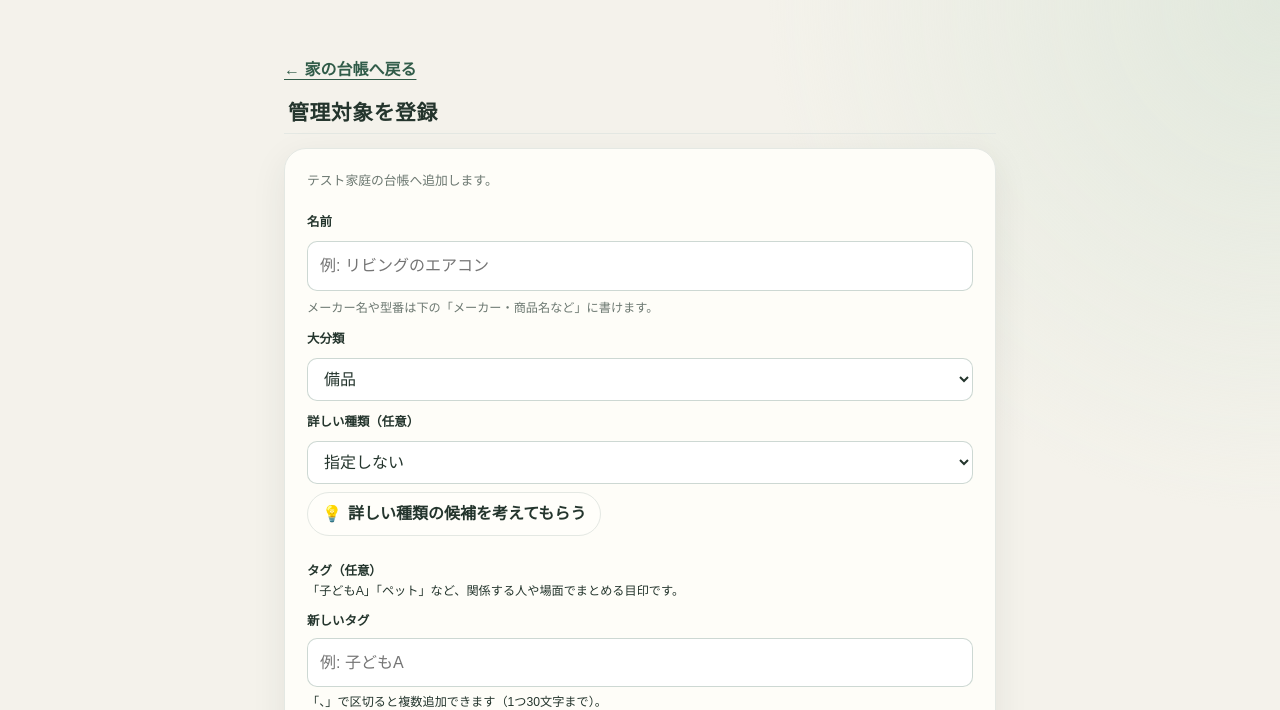
Test: 登録・編集の自由入力(詳しい種類)候補(Issue #288) › 入力した文字で候補を絞り込み、前後の空白と大文字小文字の違いは無視する
Step 1. Select "サービス" in the dropdown labelled "大分類" → {"x": 640, "y": 380}, box [307,358,973,401]
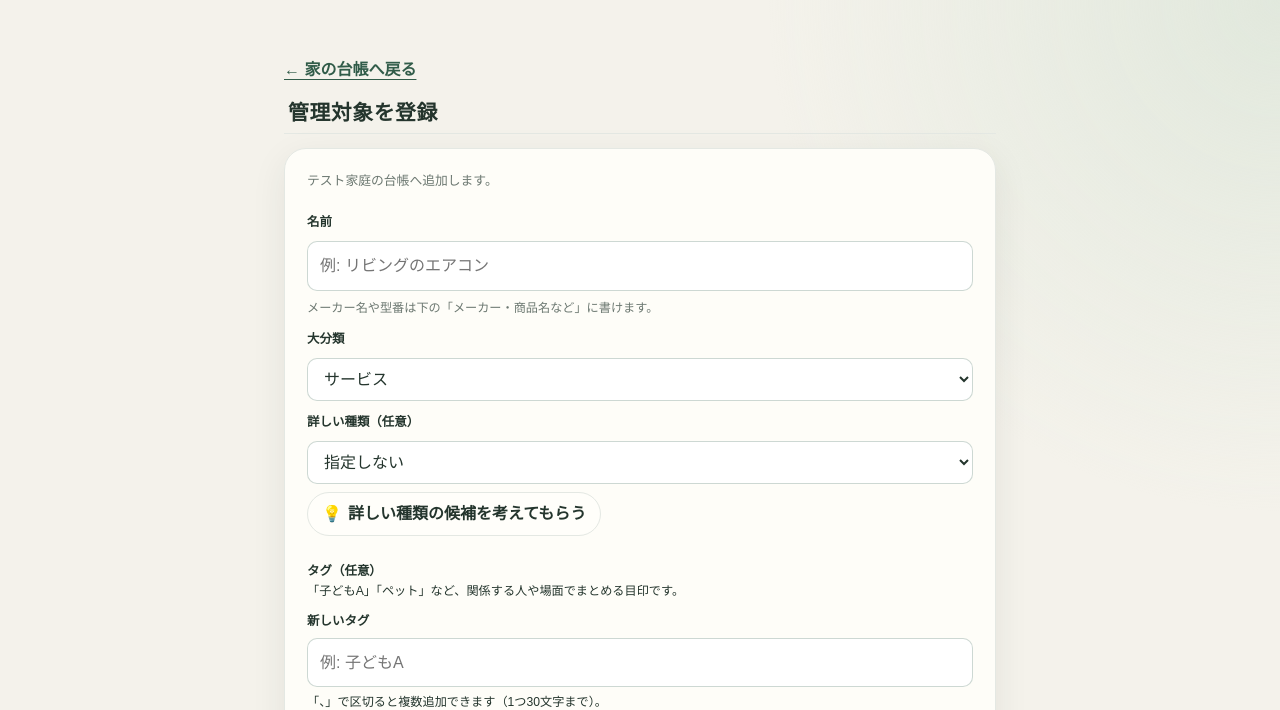
Step 2. Select "その他（自由入力）" in the dropdown labelled "詳しい種類（任意）" → {"x": 640, "y": 463}, box [307,441,973,484]
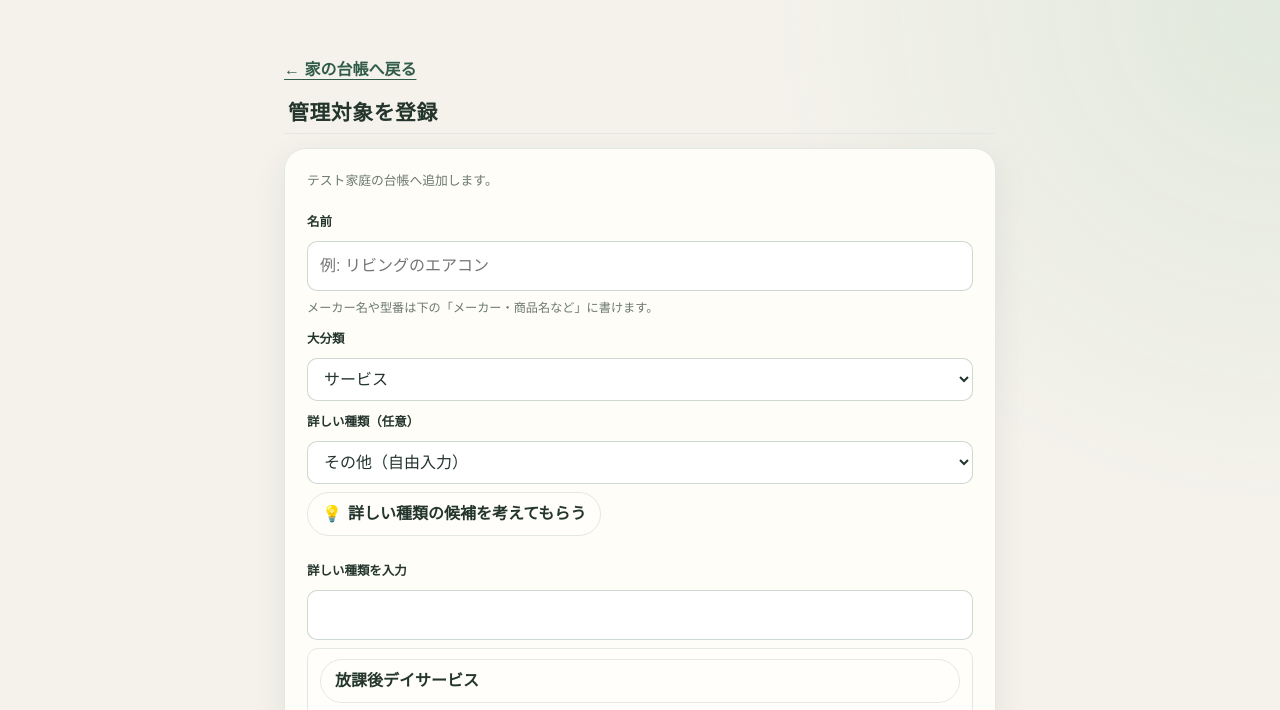
Step 3. Type "放課後" into the field labelled "詳しい種類を入力" → {"x": 640, "y": 615}, box [307,590,973,640]
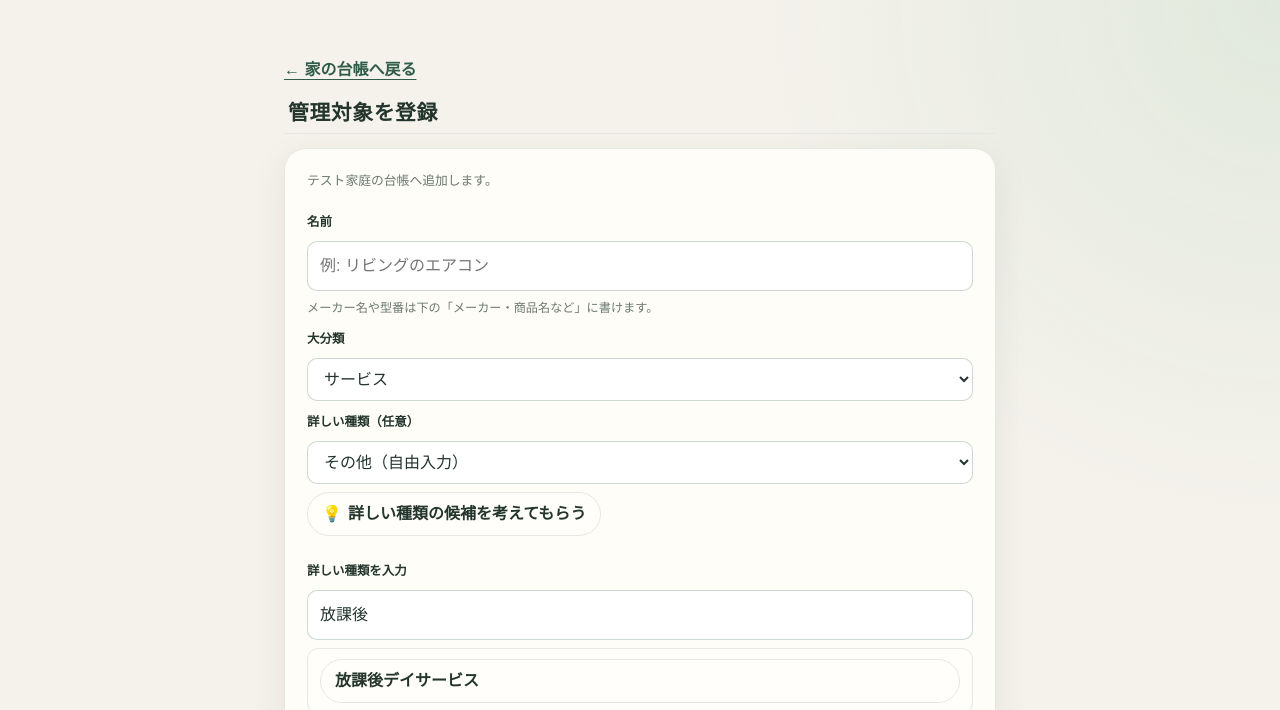
Expected: the button "放課後デイサービス" is shown, [320,659,960,703]
Step 4. Replace the text in the field labelled "詳しい種類を入力" with "  IOT  " → {"x": 640, "y": 615}, box [307,590,973,640]
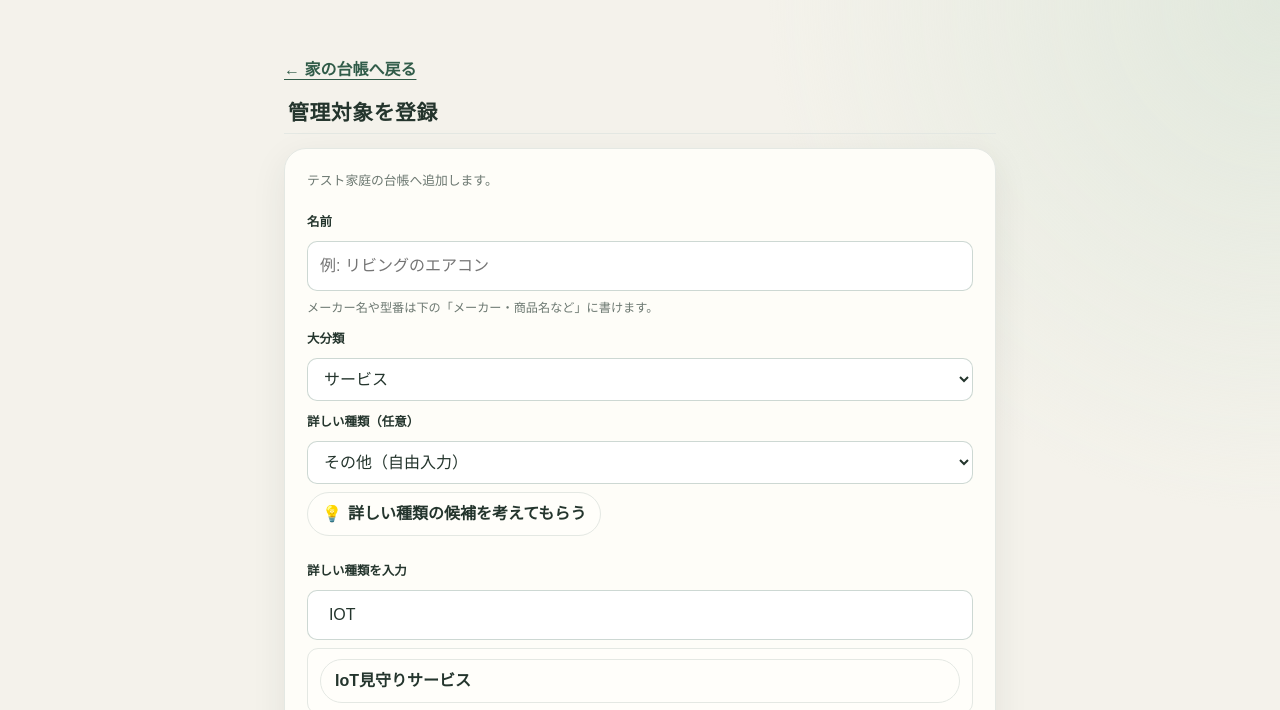
Expected: the button "IoT見守りサービス" is shown, [320,659,960,703]
